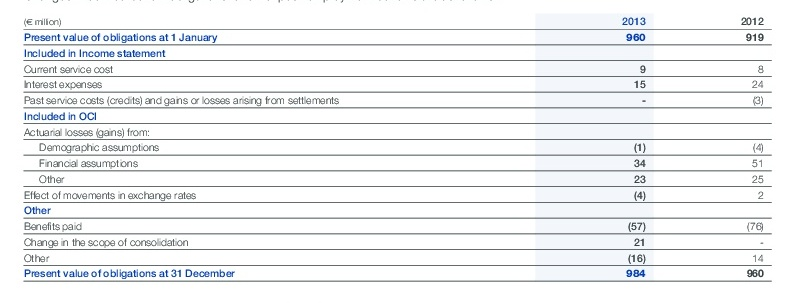table: (0, 0, 794, 303)
